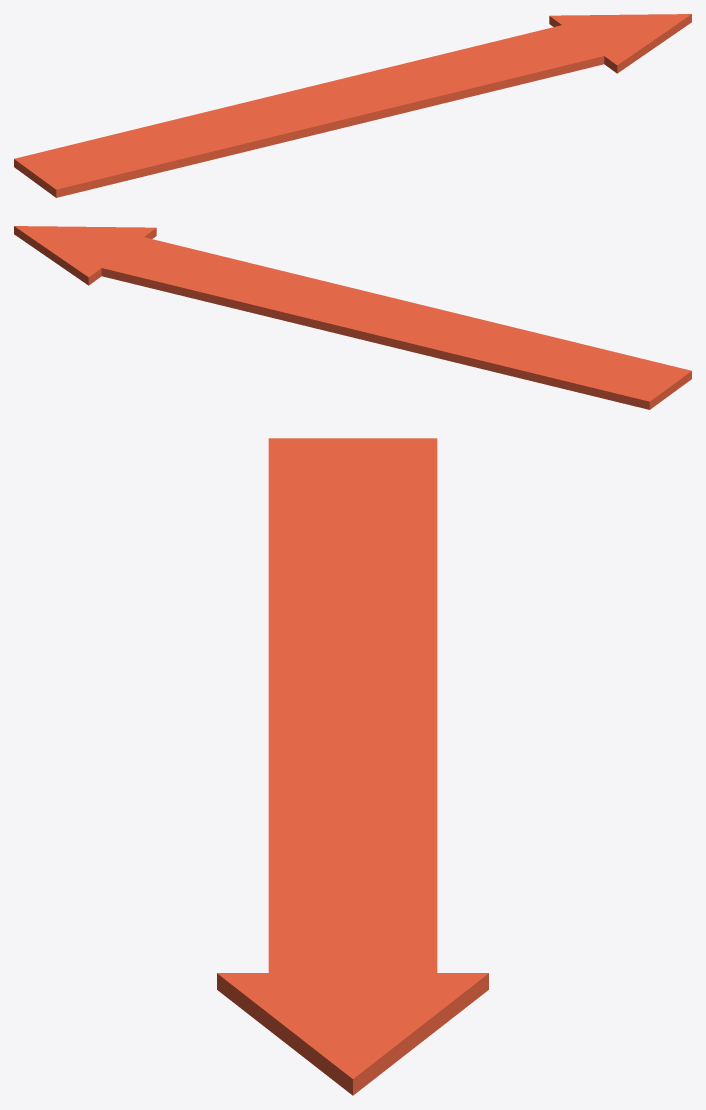
File: redArrow.glb
3 views of the same model, one above another, from view 1: azimuth 30°, elevation 25°; view 2: azimuth 150°, elevation 25°; view 3: azimuth 270°, elevation 25° (orthographic). The views are drawn at different scales.
Parts seen in each view (by area): view 1: Arrow; view 2: Arrow; view 3: Arrow.
Boxes of the visible parts, x1,y1,x2,y2 form: Arrow: [14, 14, 691, 197]; Arrow: [14, 226, 691, 409]; Arrow: [217, 438, 488, 1095].
Bounding box in the file's own units: 17.97 × 0.2161 × 3.23.
